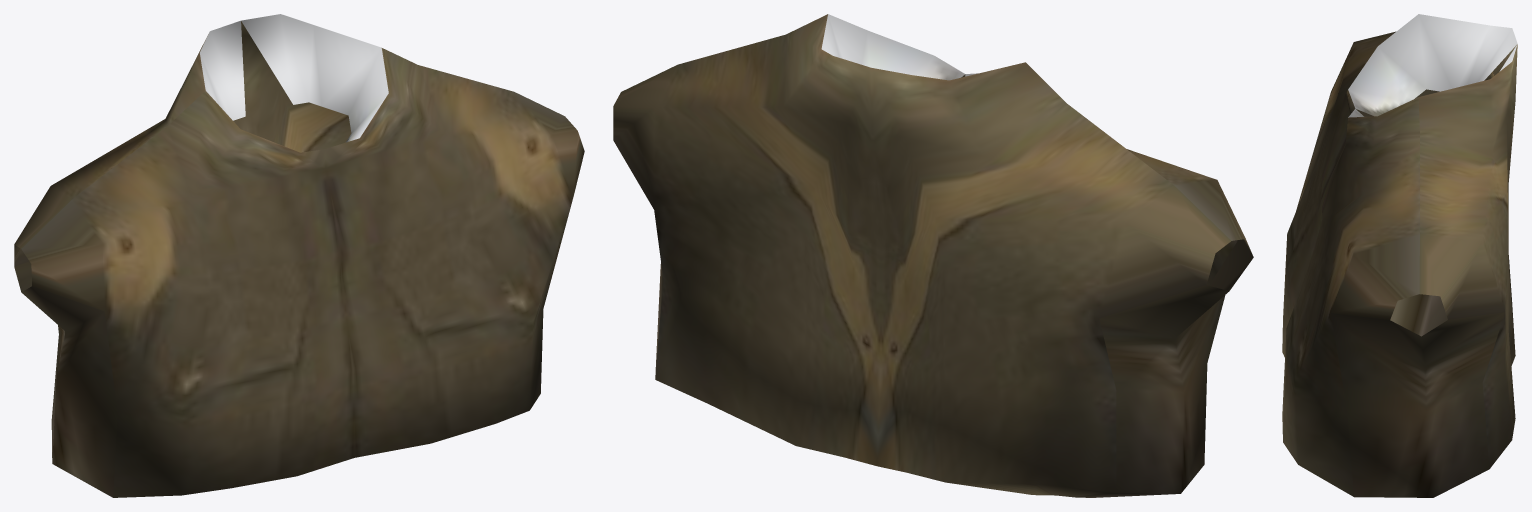
Rendered from top.fbx.
3 views of the same model, side by side, from view 1: azimuth 30°, elevation 25°; view 2: azimuth 150°, elevation 25°; view 3: azimuth 270°, elevation 25° (orthographic). The views are drawn at different scales.
Visible parts, largest first — view 1: Mesh_001; view 2: Mesh_001; view 3: Mesh_001.
Boxes of the visible parts, x1,y1,x2,y2 form: Mesh_001: (14, 14, 584, 497); Mesh_001: (613, 14, 1253, 497); Mesh_001: (1282, 14, 1517, 497).
Size of the model in its own units: 9.9 by 6.67 by 3.77.
